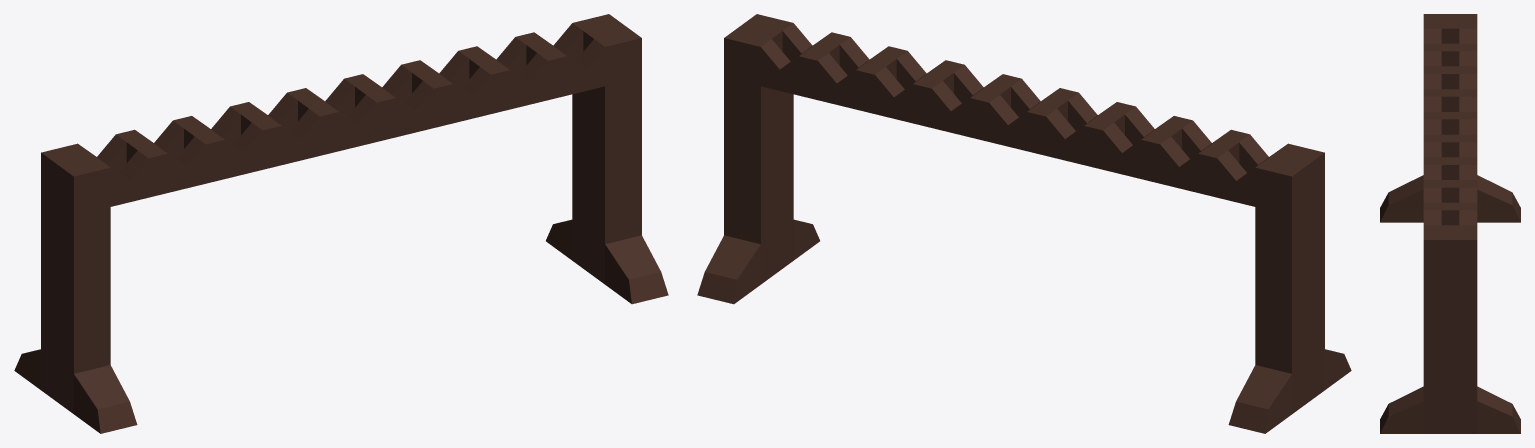
The model's file is Rack.fbx.
The picture shows the model from 3 angles, left to right: view 1: azimuth 30°, elevation 25°; view 2: azimuth 150°, elevation 25°; view 3: azimuth 270°, elevation 25°; orthographic projection. The views are drawn at different scales.
Visible parts, largest first — view 1: Rack; view 2: Rack; view 3: Rack.
Boxes of the visible parts, box(x1,y1,x2,y2) form: Rack: box(14, 14, 668, 433); Rack: box(697, 14, 1351, 433); Rack: box(1380, 14, 1520, 433).
Bounding box in the file's own units: 300 × 120 × 79.02.
1 material, 1 textured.
